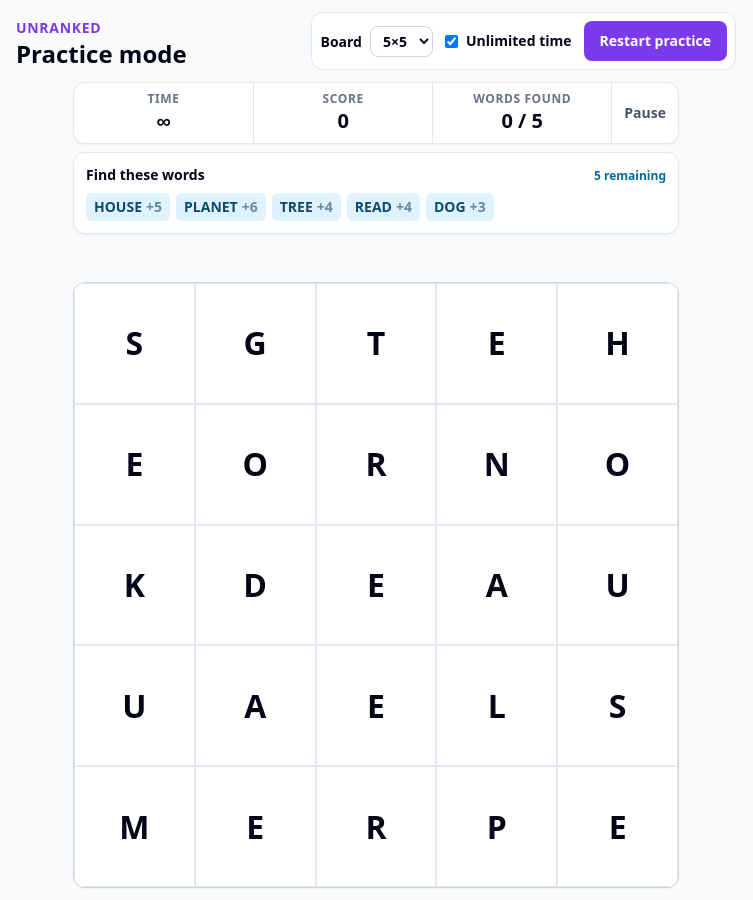
Scenario: PracticeGame › starts unranked with unlimited time and applies settings on restart
Expected: the text "Unranked" is shown, [16,18,101,37]
Expected: the checkbox labelled "Unlimited time" is checked, [445,34,458,48]
Select "4×4" in the dropdown labelled "Board" at (402, 41), box [370,26,433,56]
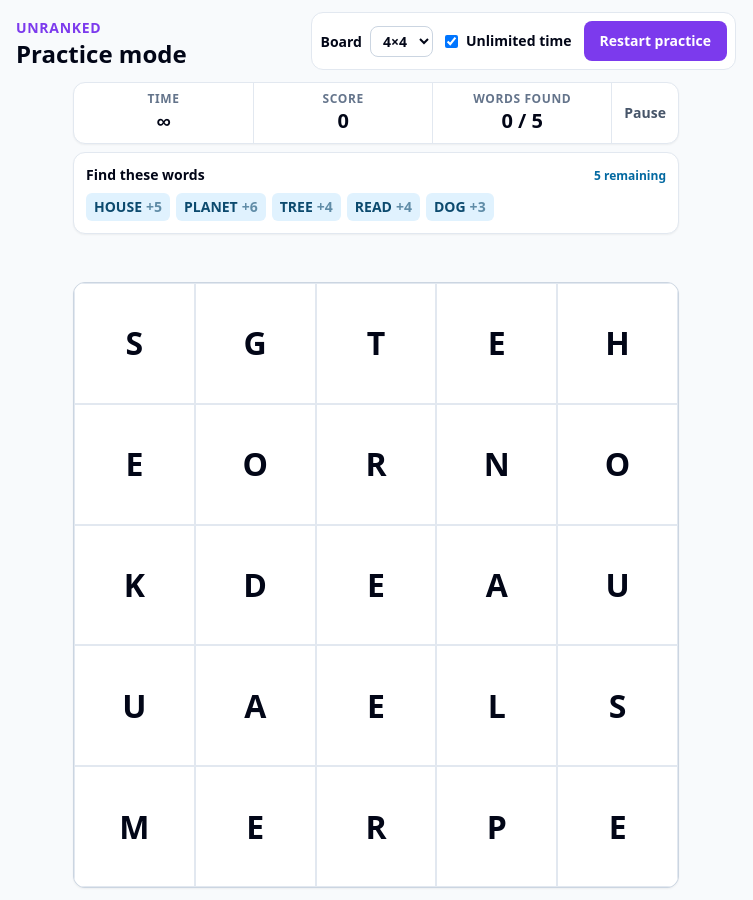
Click the checkbox labelled "Unlimited time" at (452, 41), box [445,34,458,48]
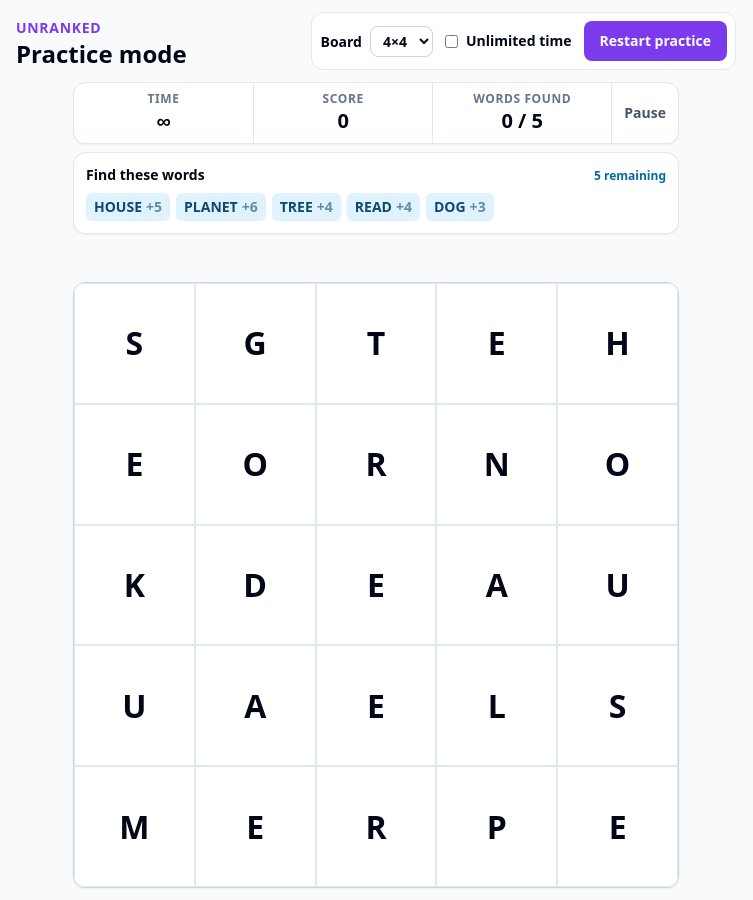
Click the button "Restart practice" at (655, 41), box [584,21,727,61]
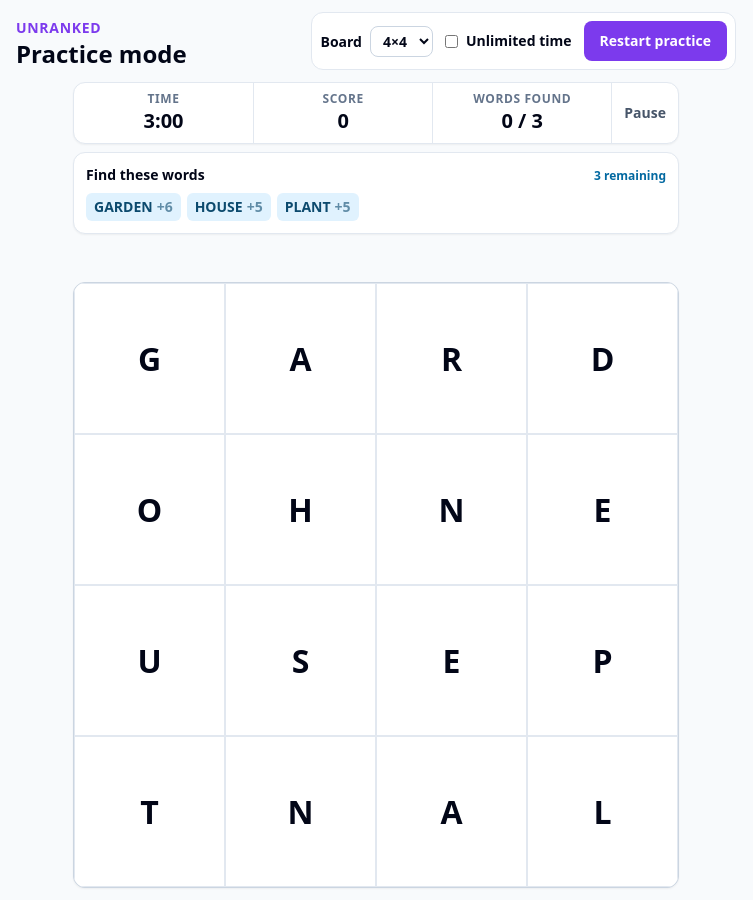
Now the text with test id "timer" reads "3:00", box [144,107,184,134]
